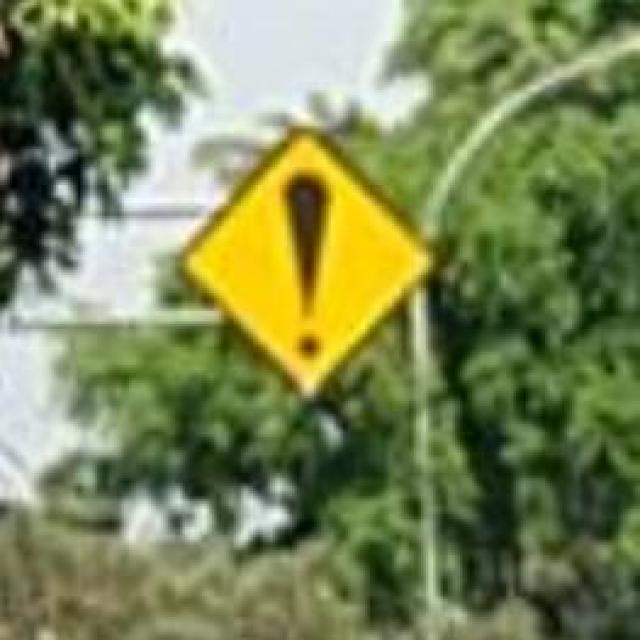traffic sign: (175, 131, 433, 393)
